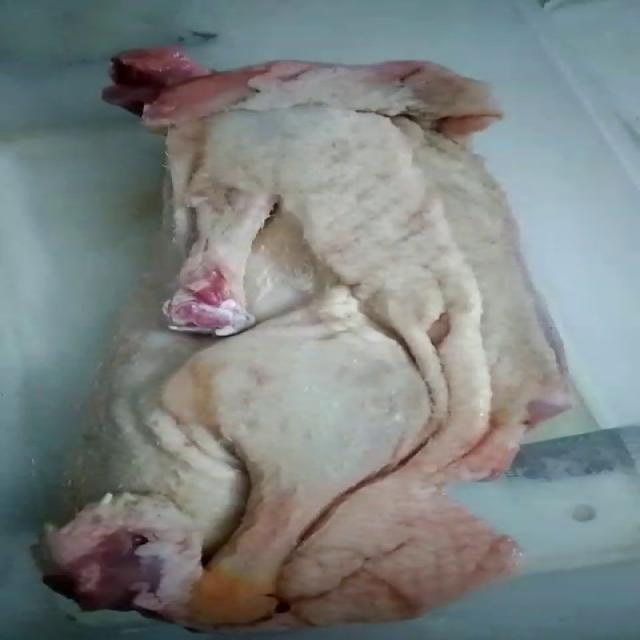chicken: (34, 43, 578, 633)
